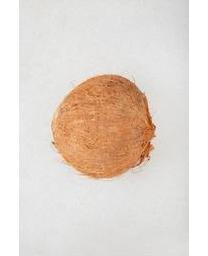coconut: (49, 74, 154, 179)
